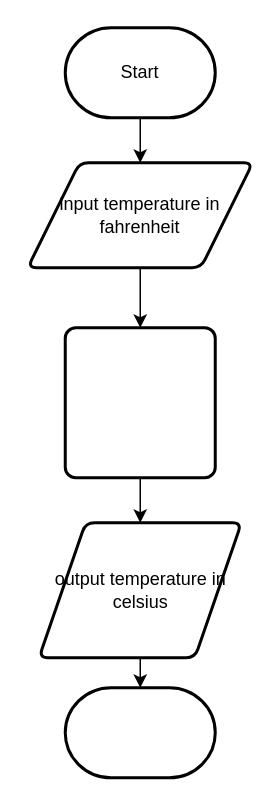
The diagram is 279 pixels wide and 804 high, and some of its shapes have lost their labels. The box of each missing label's shape, as (x1, y1, x2, y2) in pixels:
0 °C = (32 °F - 32) * 5/9: (63, 326, 216, 478)
Stop: (63, 686, 216, 778)
